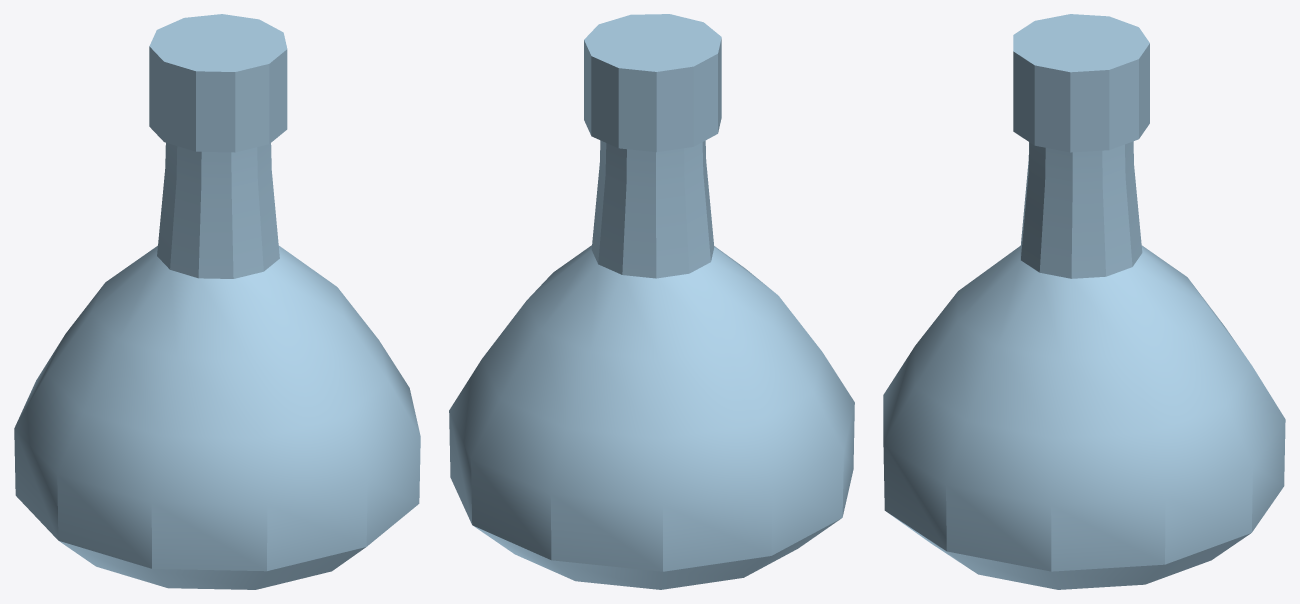
The model's file is 020_Shadow_Bottle_042.fbx.
The picture shows the model from 3 angles, left to right: view 1: azimuth 30°, elevation 25°; view 2: azimuth 150°, elevation 25°; view 3: azimuth 270°, elevation 25°; orthographic projection.
Parts seen in each view (by area): view 1: Sphere.018; view 2: Sphere.018; view 3: Sphere.018.
Part boxes in pixels (box(x1,y1,x2,y2)): Sphere.018: box(14, 14, 420, 589); Sphere.018: box(449, 14, 854, 589); Sphere.018: box(883, 14, 1285, 589).
Size of the model in its own units: 118 by 155 by 117.
